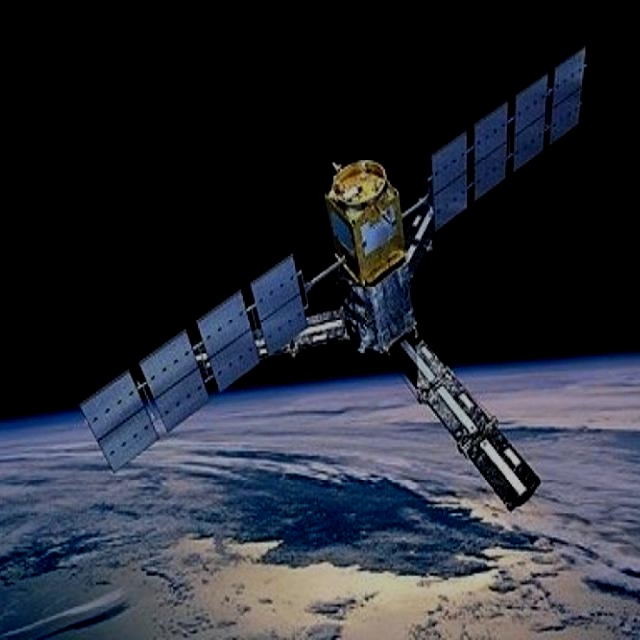satellite: (70, 35, 589, 513)
